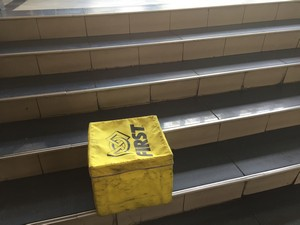cube: (87, 113, 170, 210)
